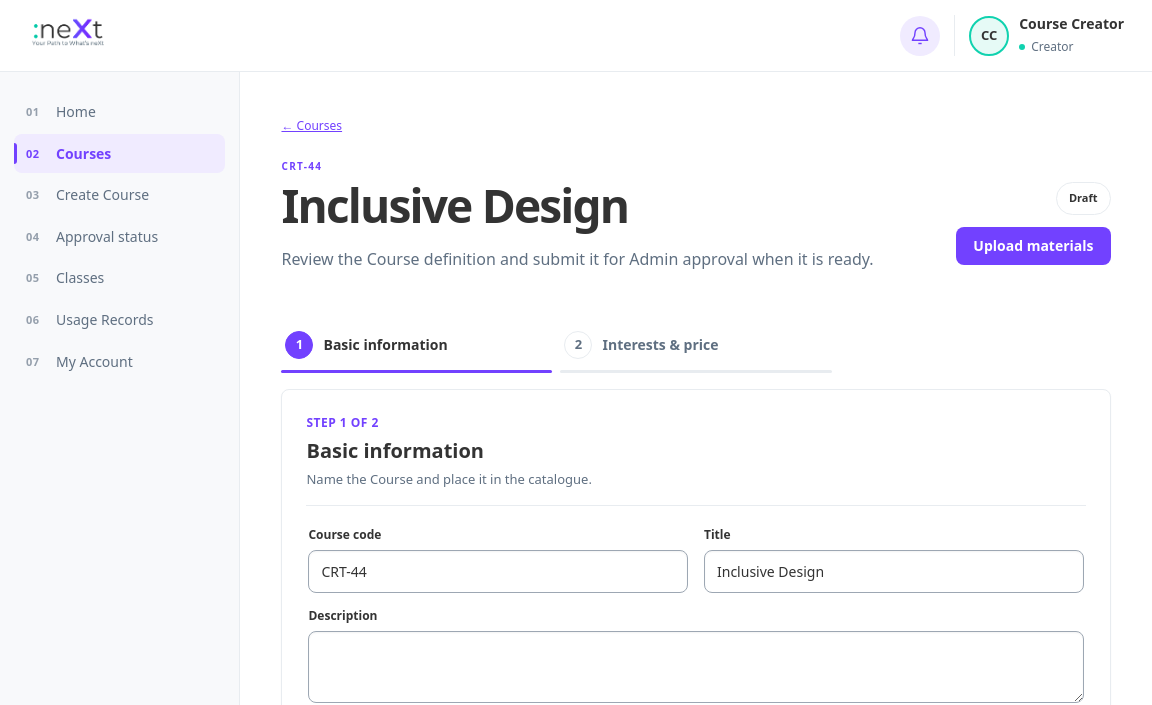
Test: Creator Course workspace › lets an existing Draft jump between steps and blocks submitting unsaved edits
Expected: the heading "Inclusive Design" is shown, [282,174,628,237]
Click the button "2 Interests & price".
click(696, 347)  # box [560,321,832,373]
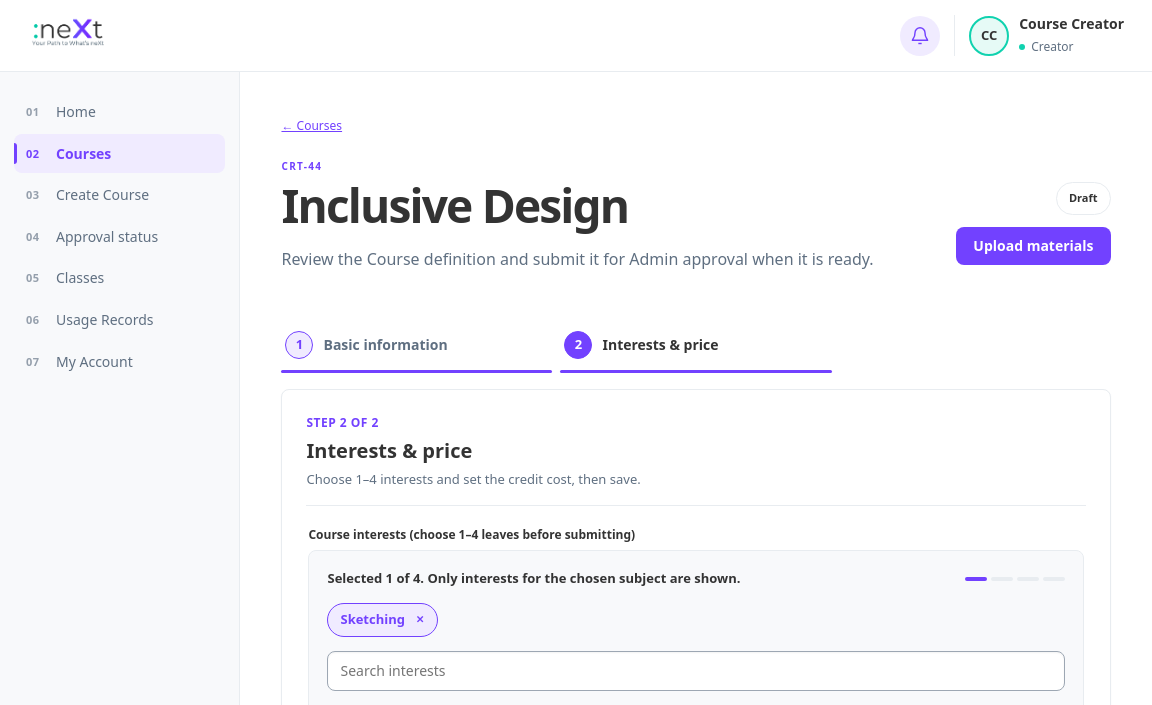
Now the text "Selected 1 of 4" is shown, box [328,569,740,589]
Click the button "1 Basic information".
click(417, 347)  # box [282,321,552,373]
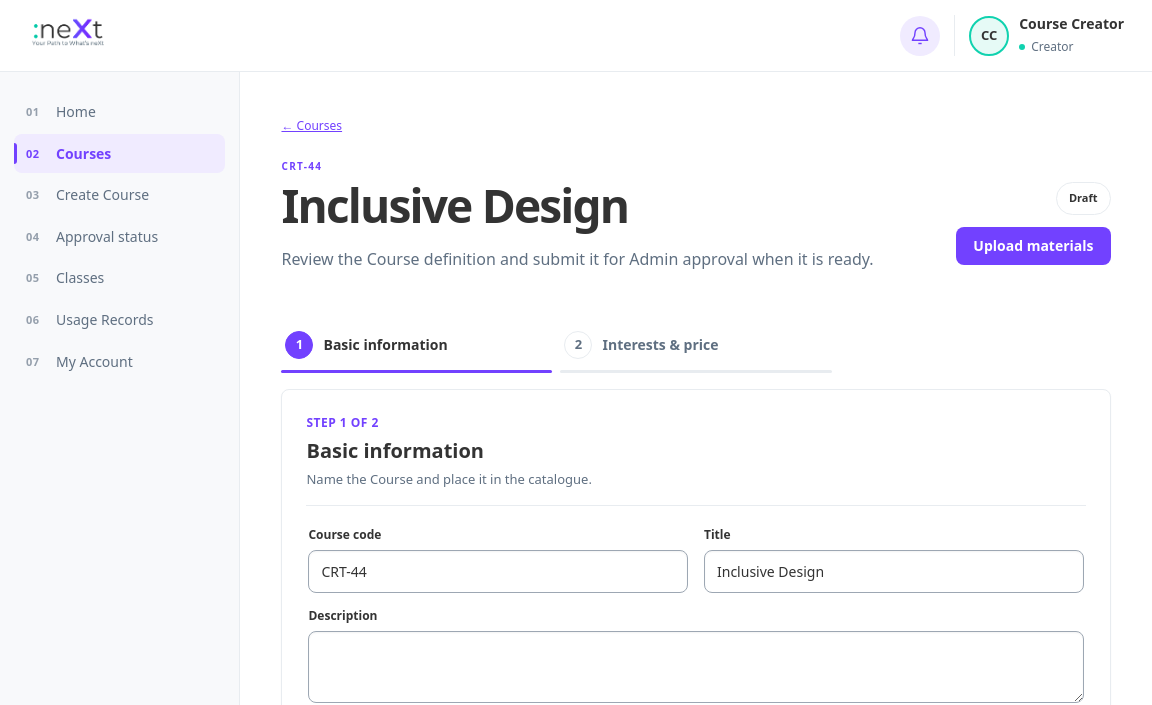
Replace the text in the field labelled "Title" with "Unsaved title" at (894, 572), box [704,550,1084,593]
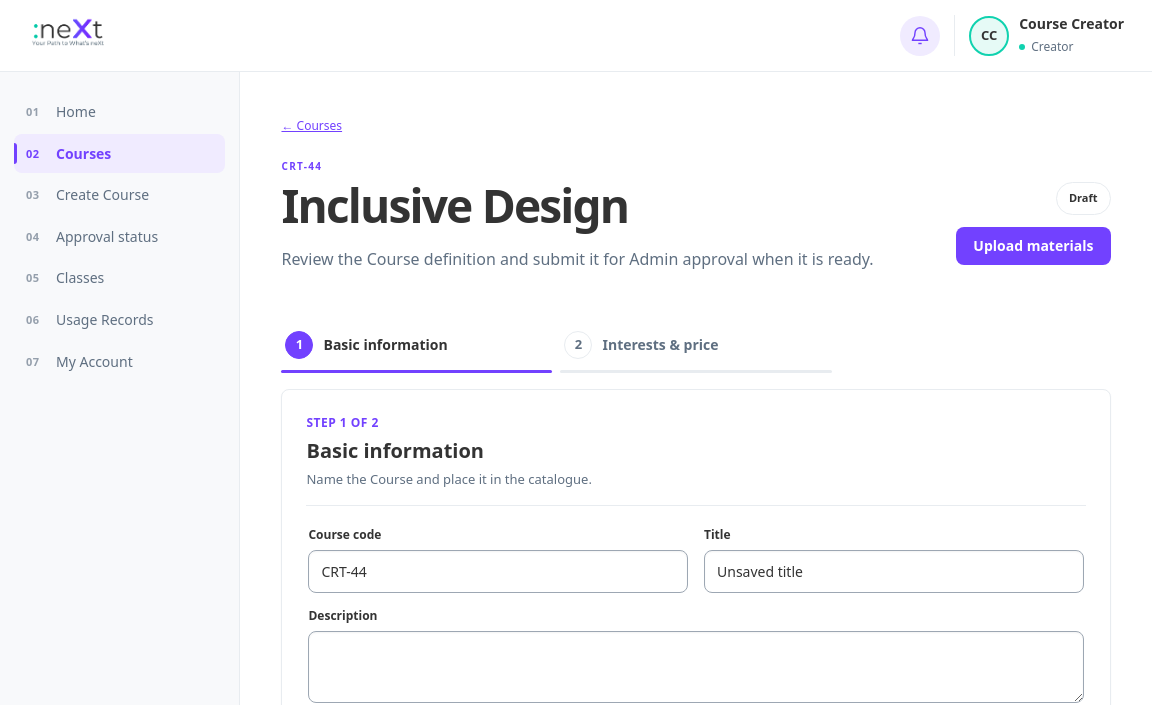
Click the button "2 Interests & price".
click(696, 347)  # box [560,321,832,373]
(page scrolled)
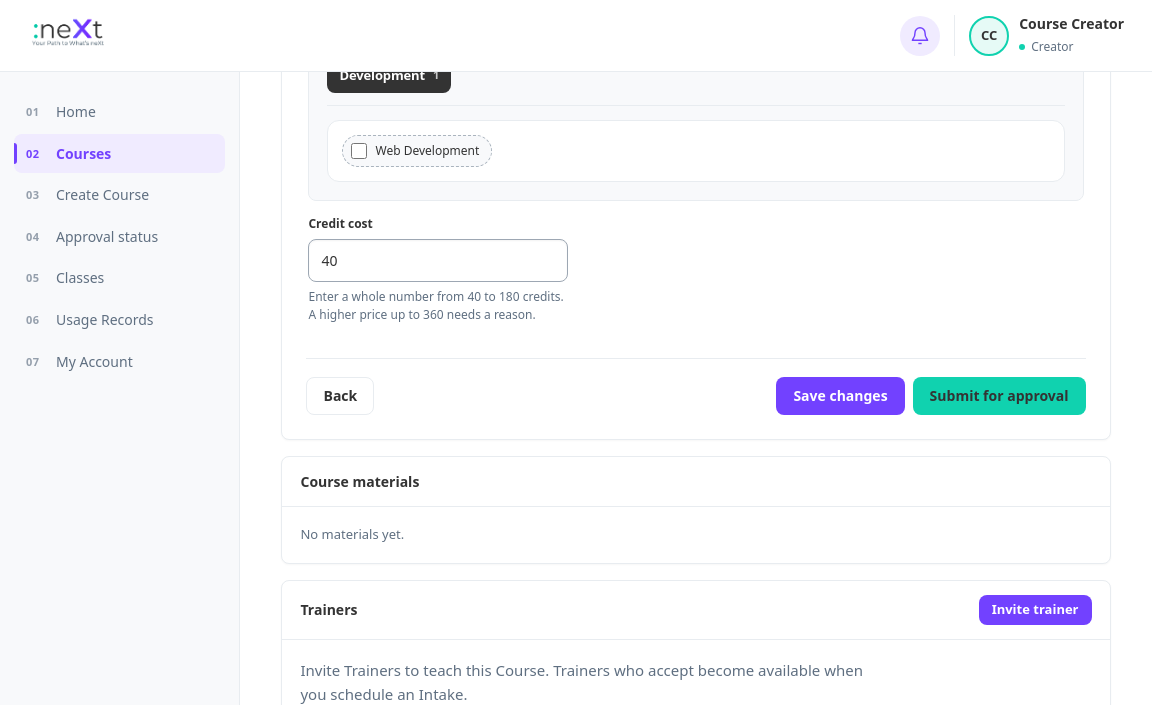
Click the button "Submit for approval".
click(999, 396)  # box [913,377,1086,415]
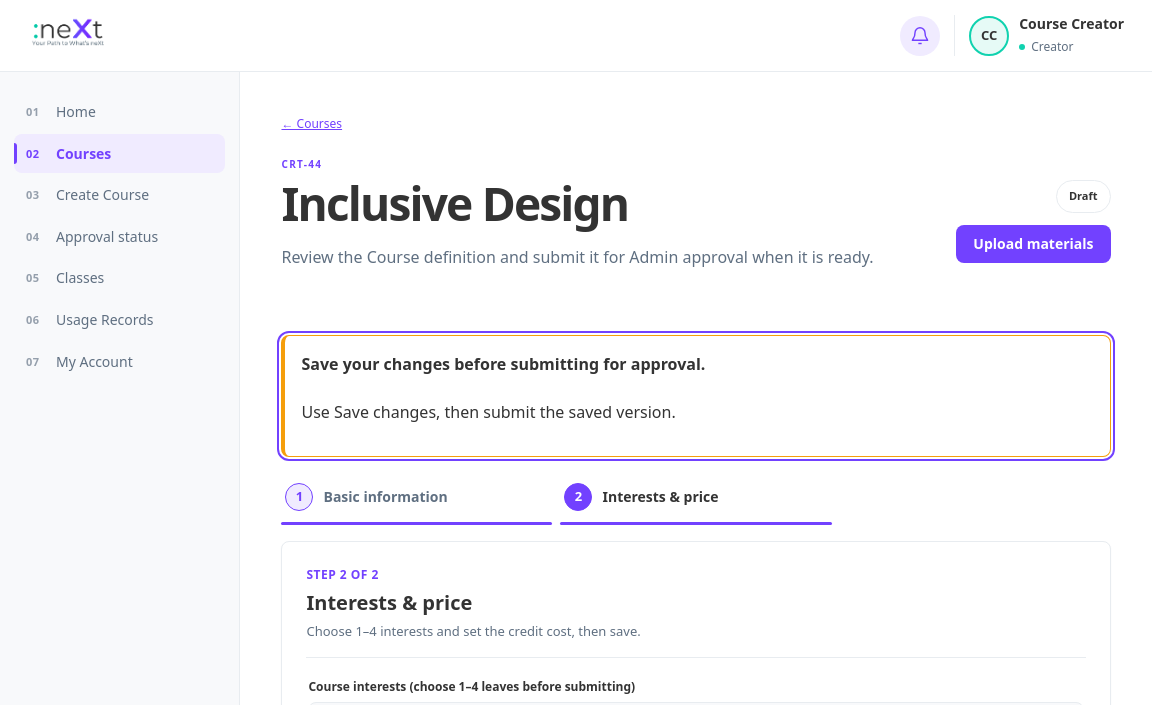
Now the text "Save your changes before submitting for approval." is shown, box [302,353,705,375]
Click the button "1 Basic information".
click(417, 499)  # box [282,473,552,525]
(page scrolled)
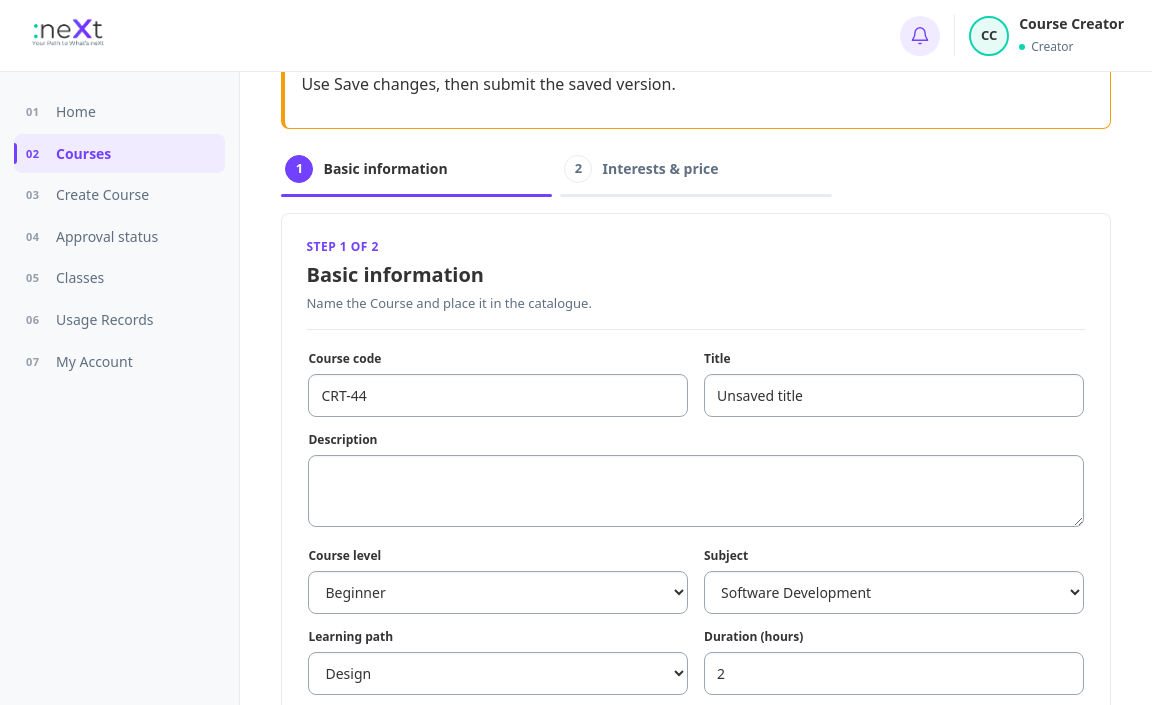
Now the field labelled "Title" holds "Unsaved title", box [704,374,1084,417]
